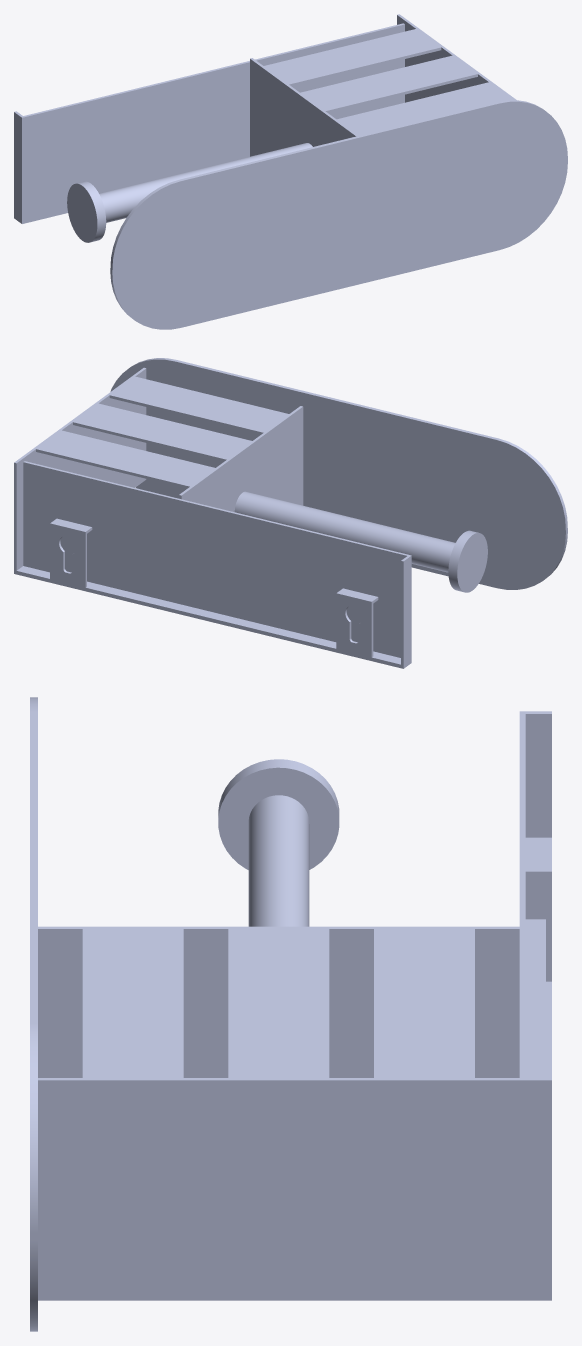
Rendered from round-duetto.48f02ea50b.glb.
3 views of the same model, one above another, from view 1: azimuth 30°, elevation 25°; view 2: azimuth 150°, elevation 25°; view 3: azimuth 270°, elevation 25° (orthographic). The views are drawn at different scales.
Parts seen in each view (by area): view 1: NAUO1; view 2: NAUO1; view 3: NAUO1.
Boxes of the visible parts, x1,y1,x2,y2 form: NAUO1: [14, 14, 567, 329]; NAUO1: [14, 358, 567, 668]; NAUO1: [30, 697, 551, 1331].
Size of the model in its own units: 0.26 by 0.08 by 0.129.
